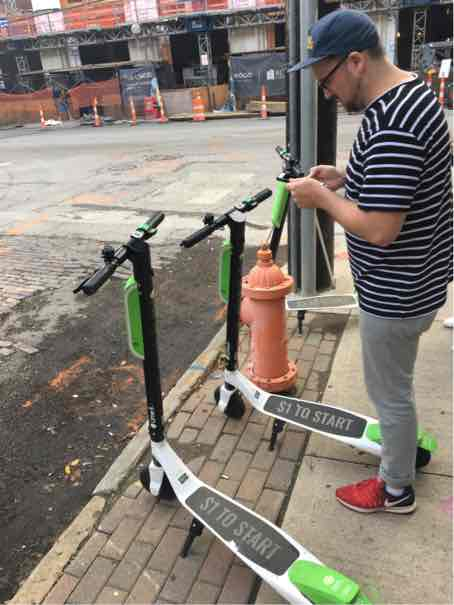scooter: (62, 209, 368, 605), (111, 189, 398, 517), (179, 168, 454, 488)
